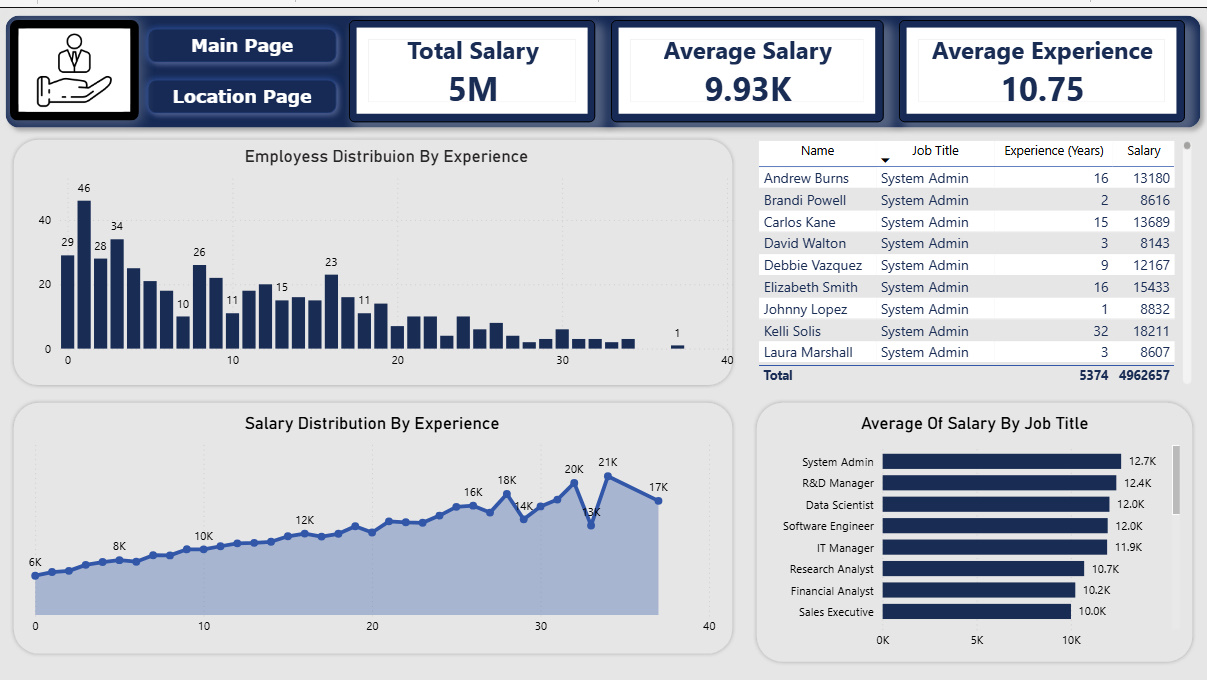

Layout of this report page (visuals, bound fields, positions):
{"tool":"powerbi","page":{"name":"Experience & Talent Analysis","canvas":[1280,720],"ordinal":1},"visuals":[{"type":"shape","box":[0,0,1280,136.4],"z":2000},{"type":"shape","box":[13.3,413.8,766.8,272.9],"z":3000},{"type":"shape","box":[798.3,414.2,468,281.5],"z":4000},{"type":"cardVisual","fields":{"Data":["Sum(Employees.Salary)"]},"box":[371.6,13.8,260.3,107.6],"z":5000},{"type":"cardVisual","fields":{"Data":["Avg(Employees.Salary)"]},"box":[648.1,13.8,287.8,107.6],"z":6000},{"type":"cardVisual","fields":{"Data":["Avg(Employees.Experience (Years))"]},"box":[952.2,13.8,301.5,107.6],"z":7000},{"type":"areaChart","title":"Salary  Distribution By Experience ","fields":{"Category":["Employees.Experience (Years)"],"Y":["Avg(Employees.Salary)"]},"box":[25.2,428.6,741.6,243.2],"z":8000},{"type":"barChart","title":"Average Of Salary By Job Title","fields":{"Category":["Employees.Job Title"],"Y":["Avg(Employees.Salary)"]},"box":[810.8,429.2,442.9,257.8],"z":9000},{"type":"tableEx","fields":{"Values":["Employees.Name","Employees.Job Title","Sum(Employees.Experience (Years))","Sum(Employees.Salary)"]},"box":[798.3,136.4,468,266.5],"z":10000},{"type":"shape","box":[150.1,13.8,217.7,53.8],"z":11000},{"type":"shape","box":[150.1,67.6,217.7,53.8],"z":12000},{"type":"shape","box":[13.3,136.5,766.8,267],"z":13000},{"type":"clusteredColumnChart","title":" Employess Distribuion By Experience ","fields":{"Category":["Employees.Experience (Years)"],"Y":["CountNonNull(Employees.Experience (Years))"]},"box":[38.8,146.4,744.5,244],"z":14000},{"type":"image","box":[13.8,13.8,136.4,106.4],"z":15000}]}

Visuals, with their boxes in screenshot pixels (x1, y1, x2, y2), scaled from the page's 1280x720 canvas onto the 1207x680 screenshot:
shape: bbox(0, 0, 1206, 129)
shape: bbox(13, 391, 736, 649)
shape: bbox(753, 391, 1194, 657)
cardVisual - Sum(Employees.Salary): bbox(350, 13, 596, 115)
cardVisual - Avg(Employees.Salary): bbox(611, 13, 883, 115)
cardVisual - Avg(Employees.Experience (Years)): bbox(898, 13, 1182, 115)
"Salary  Distribution By Experience " areaChart: bbox(24, 405, 723, 634)
"Average Of Salary By Job Title" barChart: bbox(765, 405, 1182, 649)
tableEx - Employees.Name x Employees.Job Title: bbox(753, 129, 1194, 381)
shape: bbox(142, 13, 347, 64)
shape: bbox(142, 64, 347, 115)
shape: bbox(13, 129, 736, 381)
" Employess Distribuion By Experience " clusteredColumnChart: bbox(37, 138, 739, 369)
image: bbox(13, 13, 142, 114)
